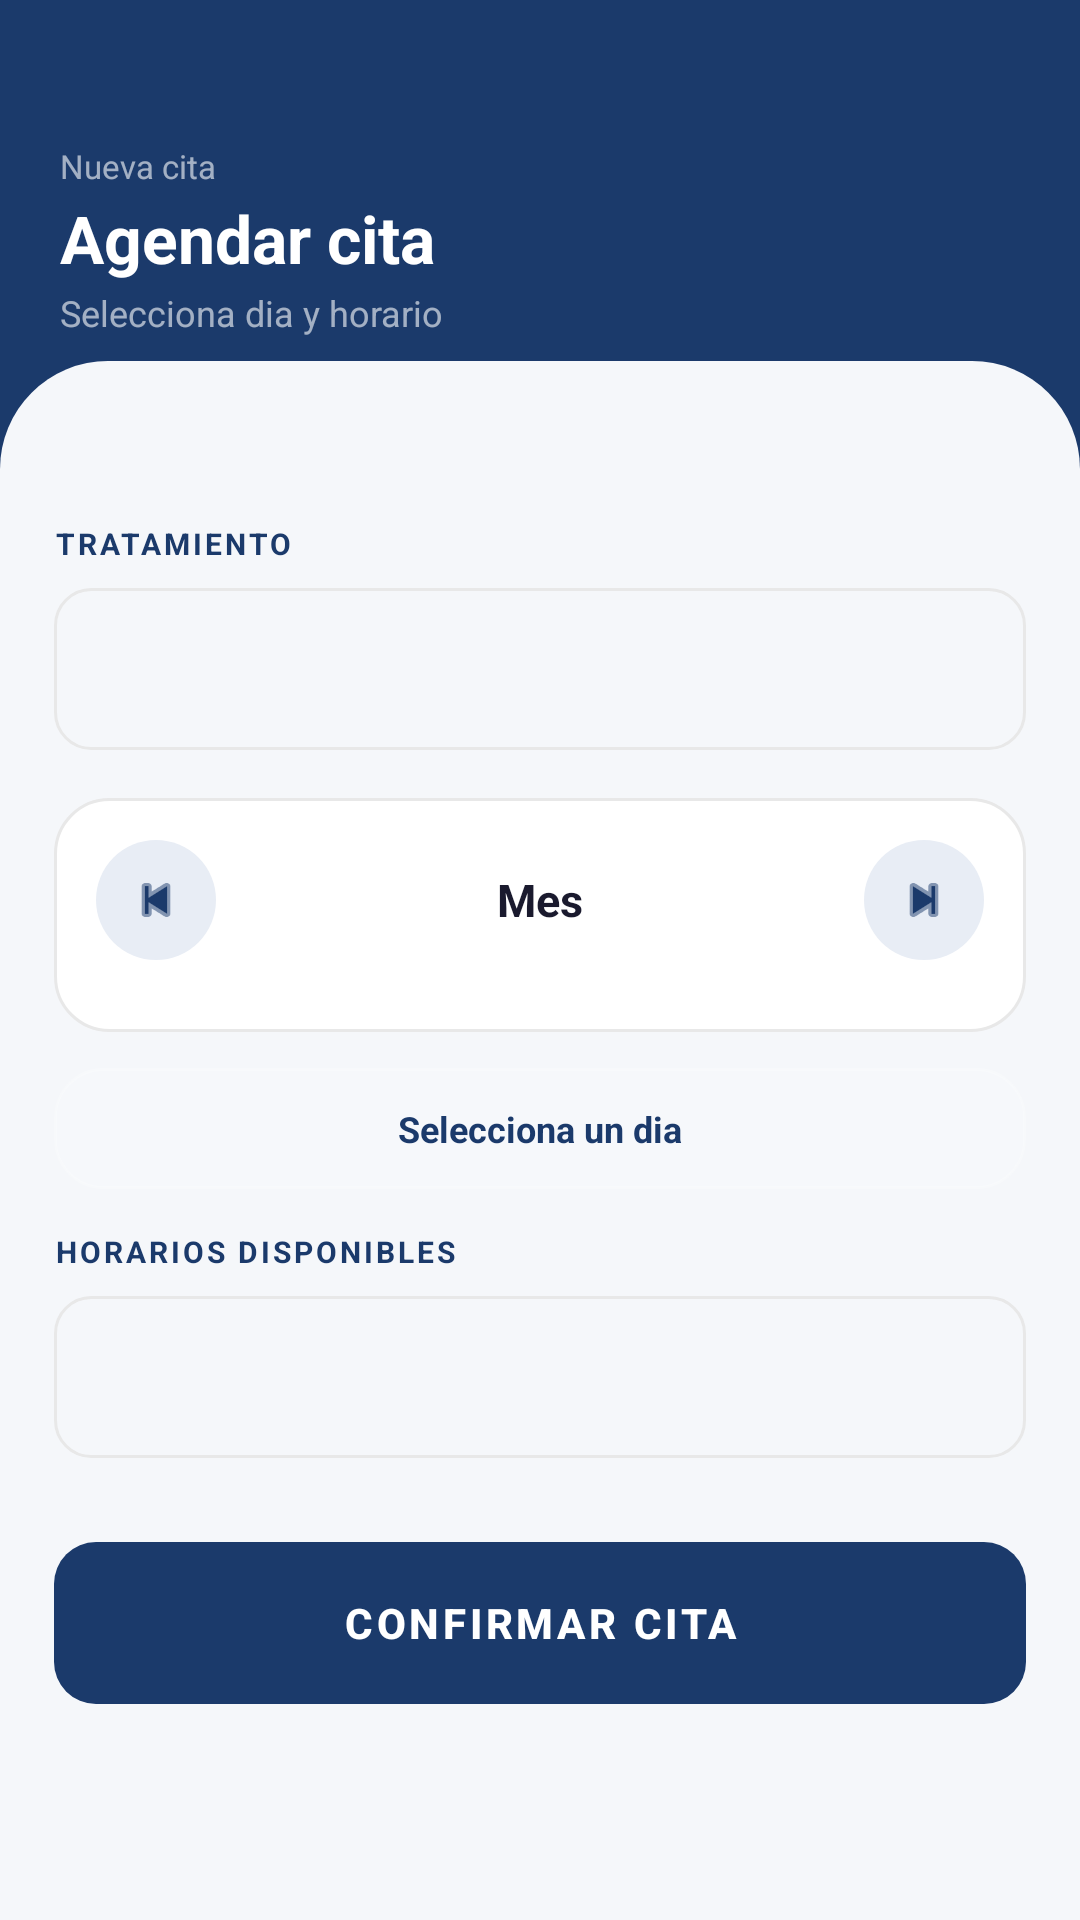

Screen size 1080px×1920px. Icon name, then its box in pixels as (x1, y1, x2, y2):
Mes anterior: (141, 883, 171, 917)
Mes siguiente: (909, 883, 939, 917)
